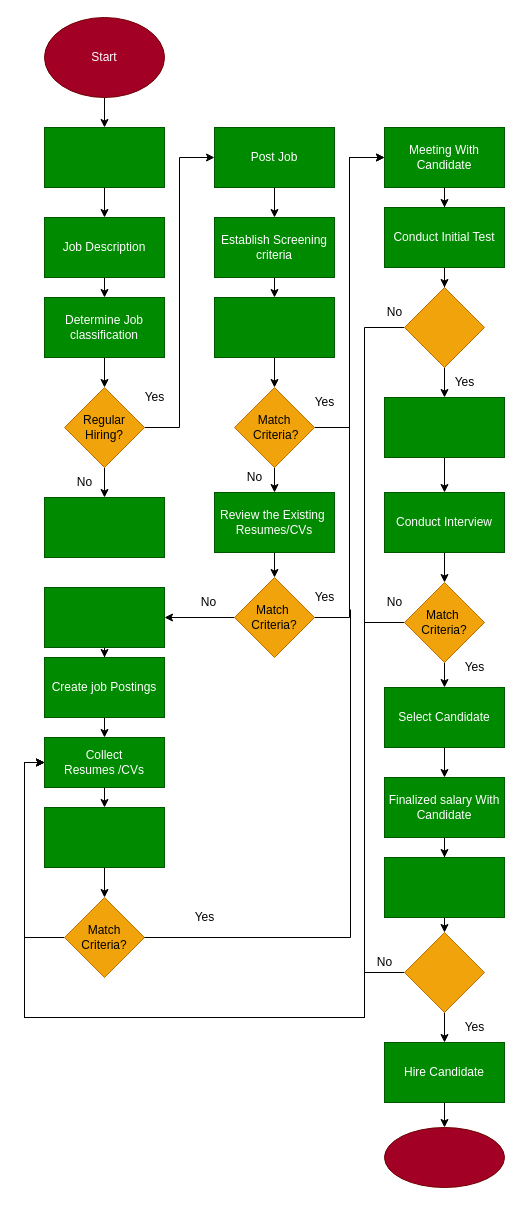
This 522x1205 diagram has some shape labels left out. The centre of each missing label's shape, as x and y in pixels:
Arrange a Preliminary Interview: (x=444, y=427)
Candidates Join?: (x=444, y=972)
End: (x=444, y=1157)
List out Brilliant Candidates: (x=104, y=837)
Make Job Offer: (x=444, y=887)
Reestablished Recruitment Strategy: (x=104, y=617)
Run Through Candidate Applications Forms: (x=274, y=327)
Staff identification: (x=104, y=157)
Temporary Hiring Process: (x=104, y=527)
Test Passed ?: (x=444, y=327)
